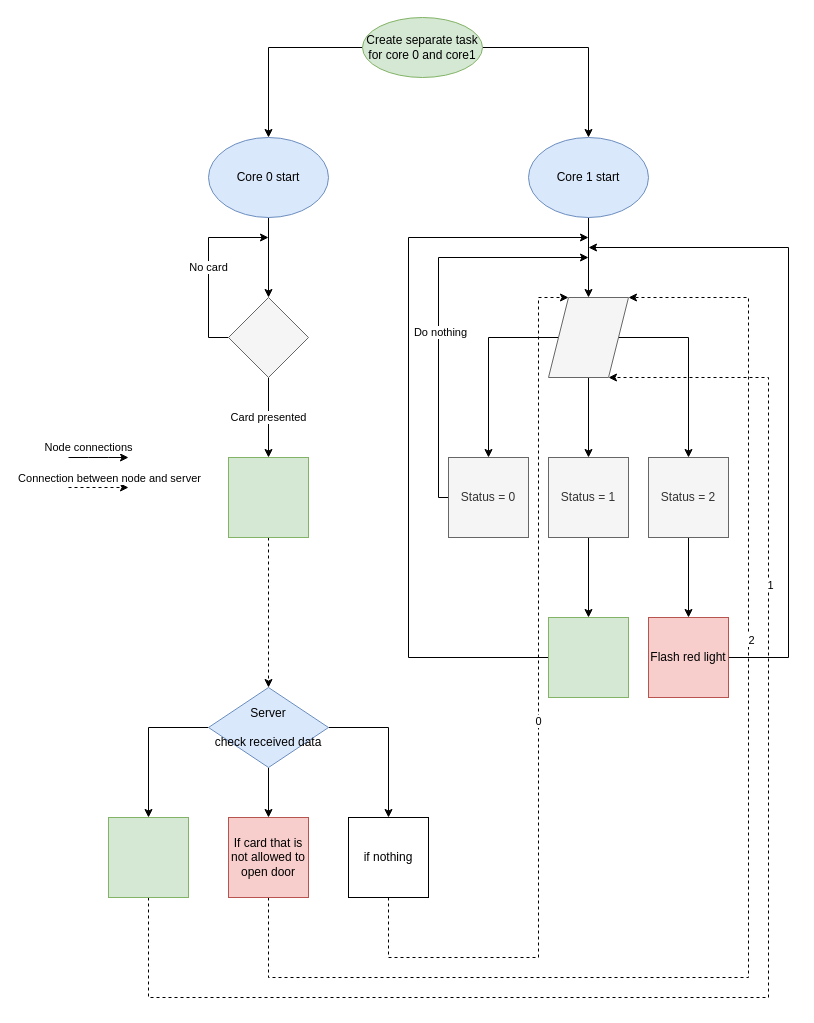
Image size: 814x1023. Some labels were removed from this diagram. Each missing label, with the box of its shape:
Get status from database: (548, 296, 628, 378)
If card that is allowed to open door: (108, 816, 188, 898)
Open lock for 5 seconds: (548, 616, 628, 698)
Send card UID to server: (228, 456, 308, 538)
Wait for card: (228, 296, 308, 378)
